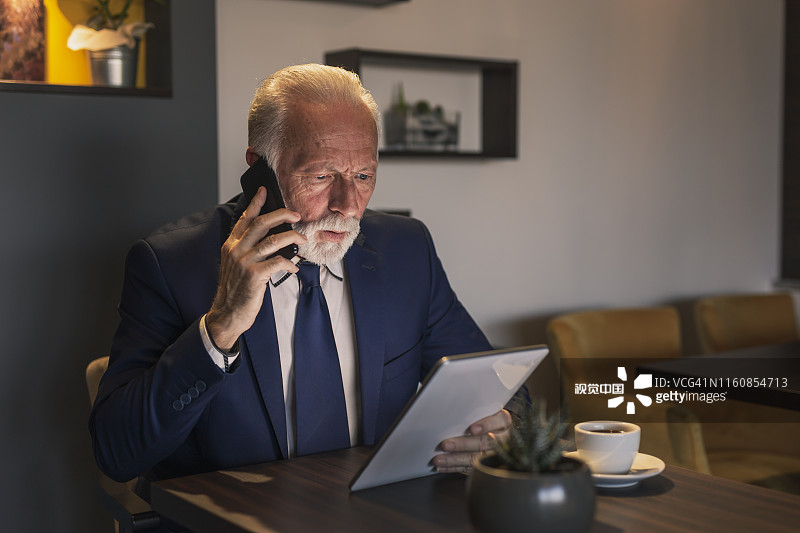calling: (202, 158, 312, 366)
no-phone: (342, 341, 544, 492)
